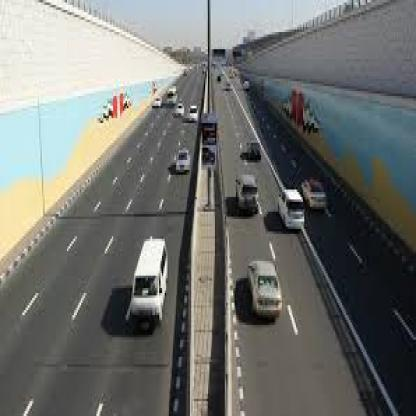car: (124, 228, 172, 335), (239, 250, 286, 325), (297, 162, 333, 216), (233, 164, 266, 222), (276, 180, 306, 241), (173, 143, 190, 176), (248, 128, 262, 166), (170, 98, 186, 128), (188, 103, 201, 136), (165, 82, 180, 109), (240, 75, 255, 102), (149, 88, 163, 112)
